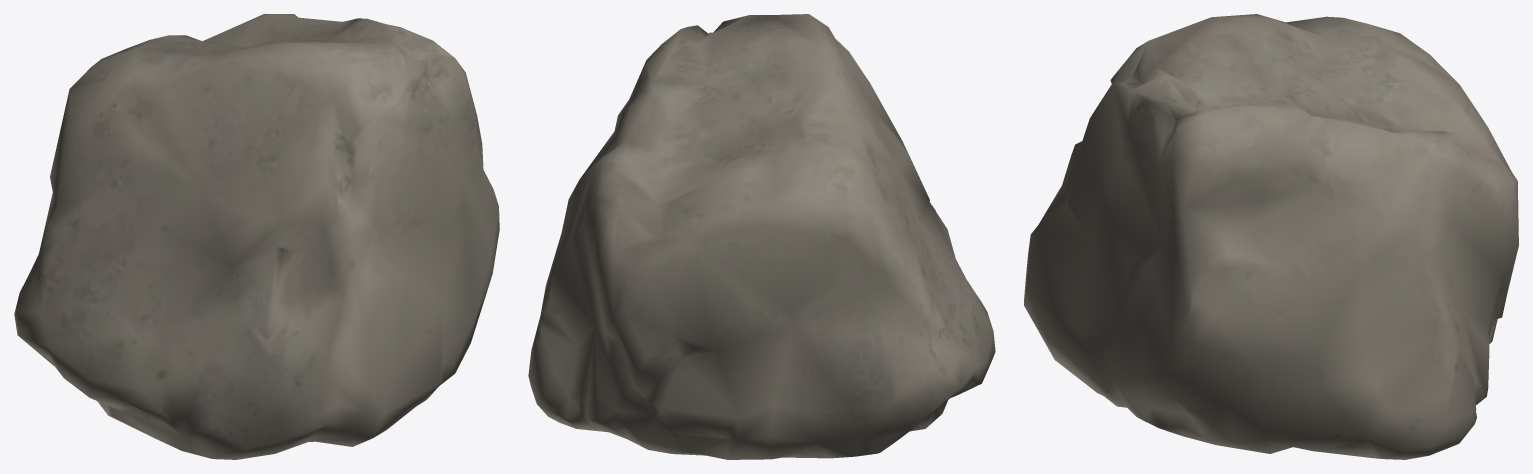
File: moon_rock_02.glb
3 renders of one model, left to right at view 1: azimuth 30°, elevation 25°; view 2: azimuth 150°, elevation 25°; view 3: azimuth 270°, elevation 25°, orthographic. The views are drawn at different scales.
Visible parts, largest first — view 1: moon_rock_02_LOD0; view 2: moon_rock_02_LOD0; view 3: moon_rock_02_LOD0.
Boxes of the visible parts, box(x1,y1,x2,y2) form: moon_rock_02_LOD0: box(14, 14, 499, 459); moon_rock_02_LOD0: box(528, 14, 995, 459); moon_rock_02_LOD0: box(1024, 14, 1518, 459).
Bounding box in the file's own units: 0.2452 × 0.2019 × 0.2513.
Materials: 1 (1 with a texture image).
